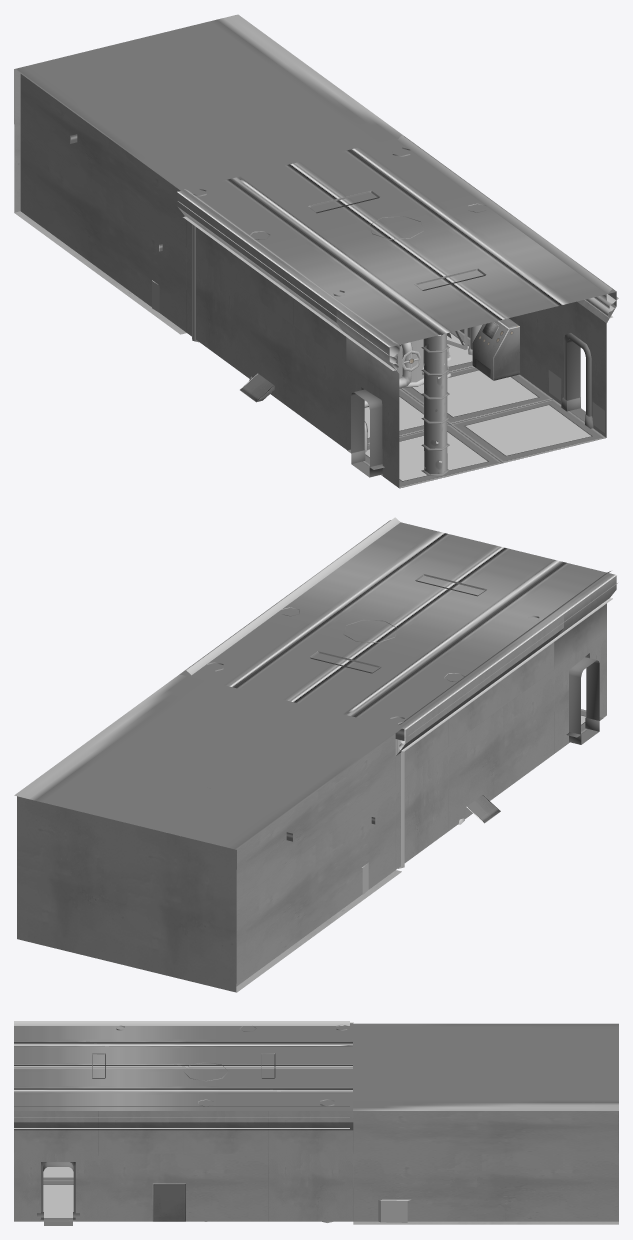
Rendered from MSH_Water_Purification_room_L3_R1_optimized.fbx.
The picture shows the model from 3 angles, top to bottom: view 1: azimuth 30°, elevation 25°; view 2: azimuth 150°, elevation 25°; view 3: azimuth 270°, elevation 25°; orthographic projection. The views are drawn at different scales.
Visible parts, largest first — view 1: lightmap1, lightmap-1, MSH_Water_Purification_room_L3_R1_water; view 2: lightmap1, lightmap-1; view 3: lightmap1, lightmap-1.
Boxes of the visible parts, bbox=[...] form: lightmap1: bbox=[14, 14, 618, 488]; lightmap-1: bbox=[351, 339, 585, 477]; MSH_Water_Purification_room_L3_R1_water: bbox=[423, 333, 447, 474]; lightmap1: bbox=[14, 517, 617, 992]; lightmap-1: bbox=[569, 657, 599, 744]; lightmap1: bbox=[14, 1021, 618, 1224]; lightmap-1: bbox=[43, 1162, 73, 1225].
Size of the model in its own units: 10.67 by 6.41 by 29.44.
